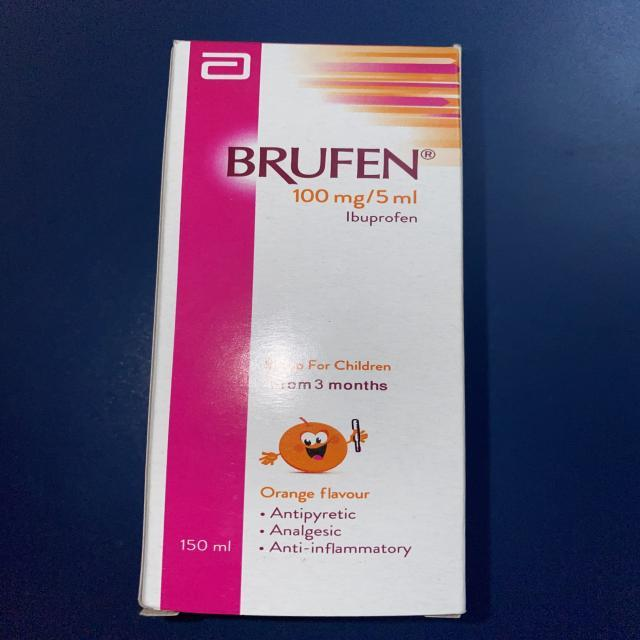Medicine Name: (224, 142, 421, 187)
